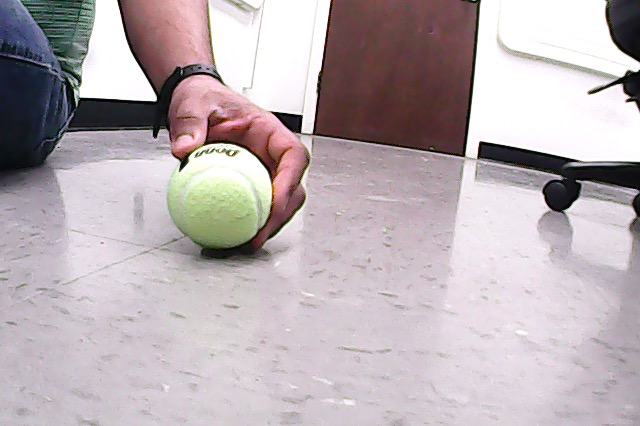ball: (167, 143, 273, 249)
